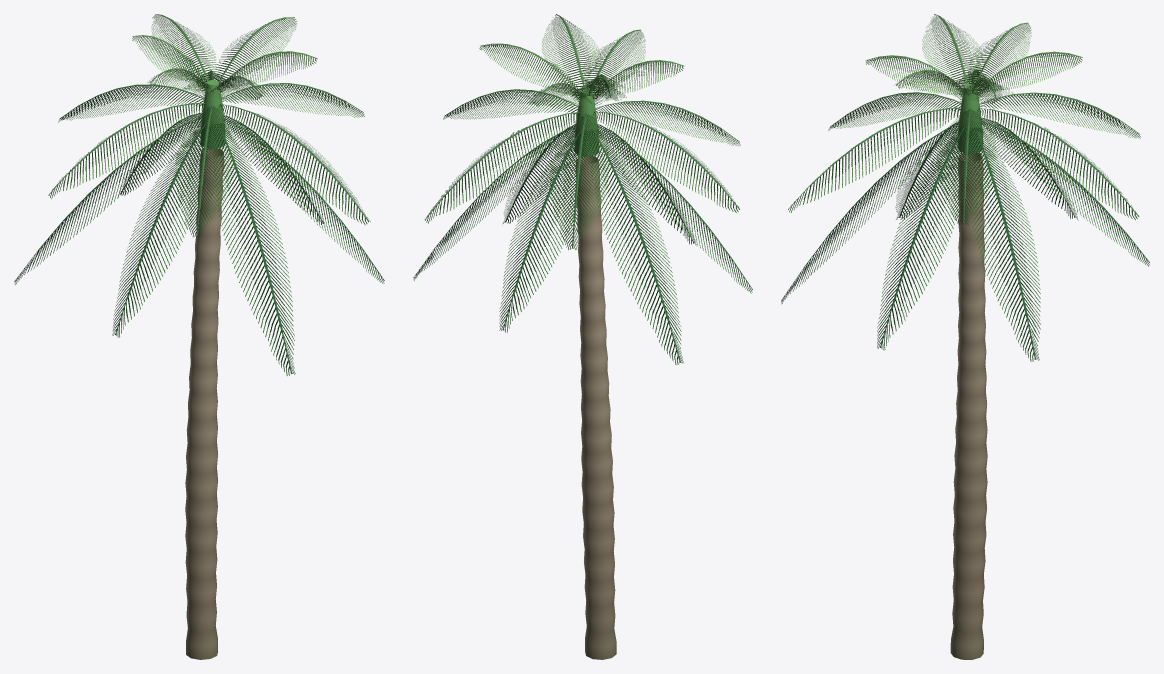
Rendered from palm_14.gltf.
The picture shows the model from 3 angles, left to right: view 1: azimuth 30°, elevation 25°; view 2: azimuth 150°, elevation 25°; view 3: azimuth 270°, elevation 25°; orthographic projection. The views are drawn at different scales.
Parts seen in each view (by area): view 1: PalmFronds, PalmTrunk; view 2: PalmFronds, PalmTrunk; view 3: PalmFronds, PalmTrunk.
Boxes of the visible parts, box(x1,y1,x2,y2) form: PalmFronds: box(14, 14, 384, 375); PalmTrunk: box(185, 80, 225, 659); PalmFronds: box(413, 14, 752, 364); PalmTrunk: box(574, 88, 616, 659); PalmFronds: box(781, 14, 1149, 361); PalmTrunk: box(950, 84, 987, 659).
Size of what is drawn, in the model's own units: 7.38 by 13.93 by 7.59.
Materials: 2 (1 with a texture image).
